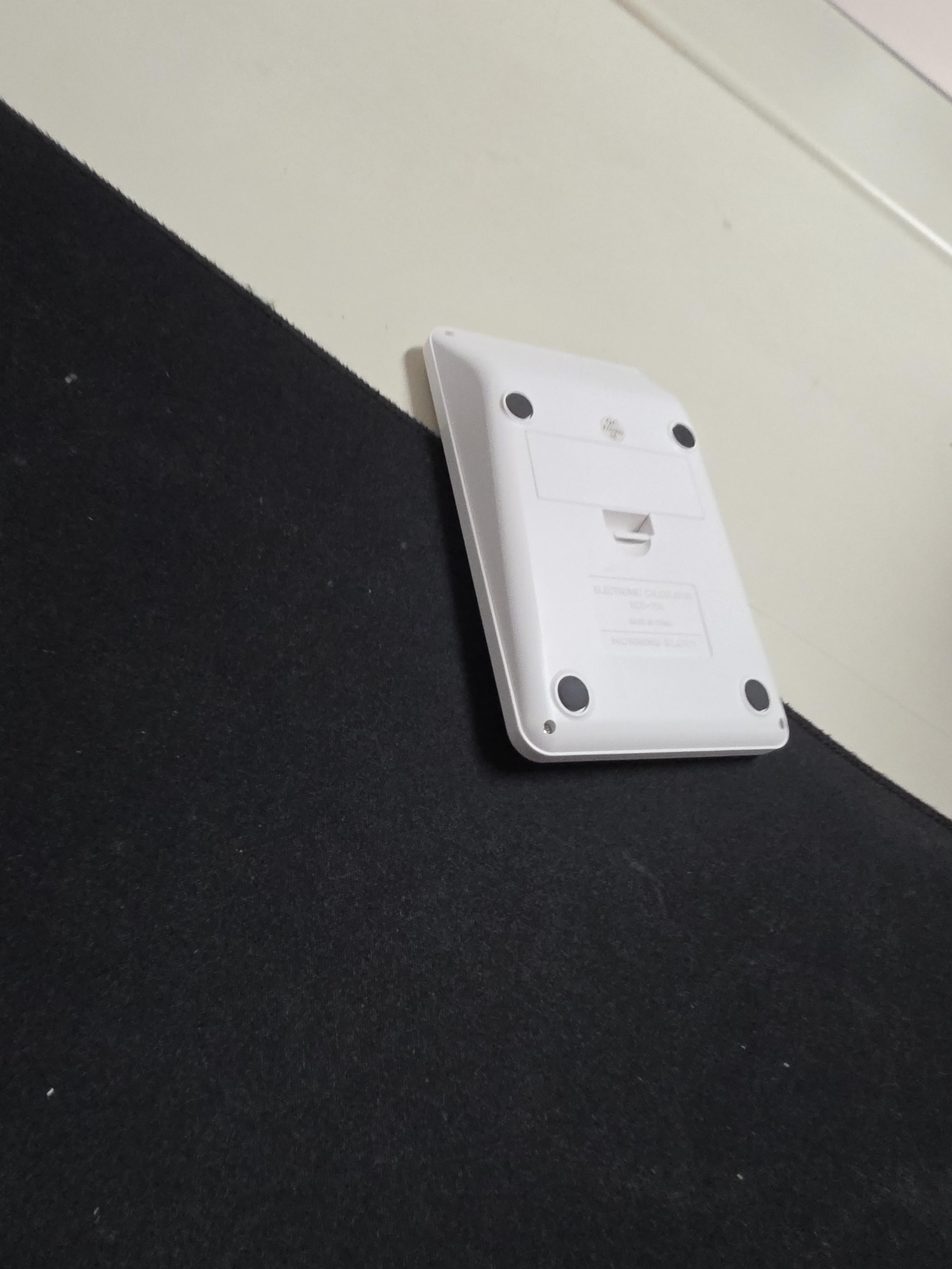calculator: (423, 326, 790, 763)
